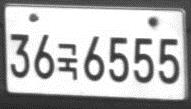3: (8, 32, 29, 78)
5: (158, 38, 180, 85), (108, 35, 129, 82), (134, 37, 154, 83)
6: (83, 35, 105, 81), (33, 33, 54, 80)
국: (55, 42, 78, 82)
